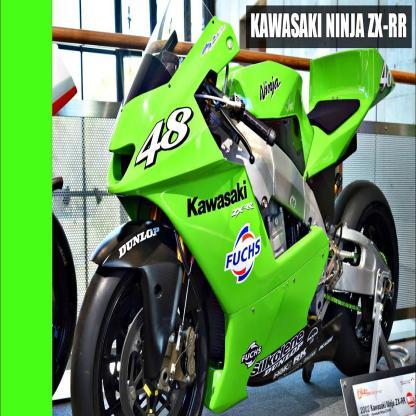Motorcycle: (69, 0, 403, 415)
